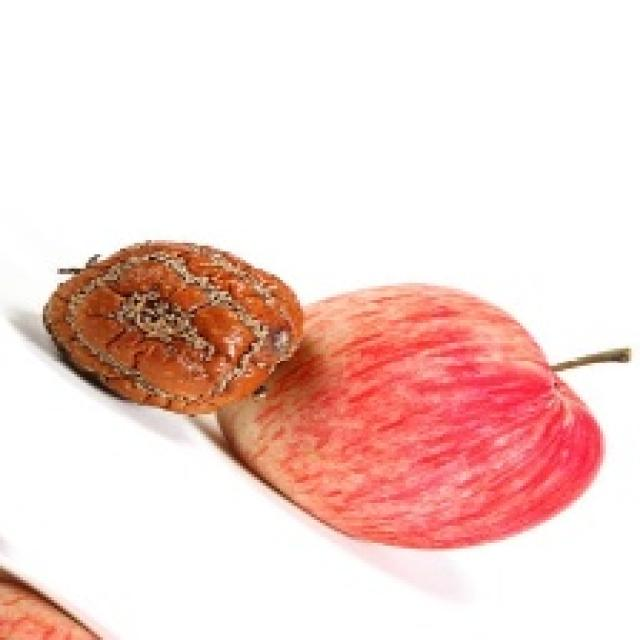rotten_apple: (50, 242, 299, 405)
